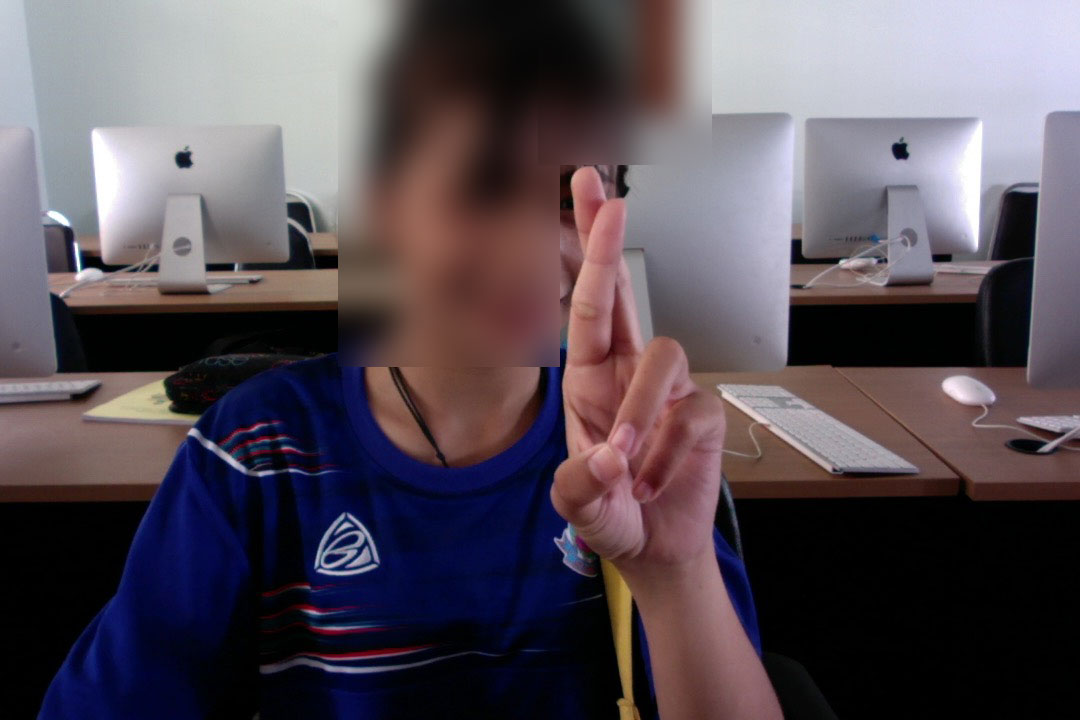rao: (538, 167, 736, 572)
